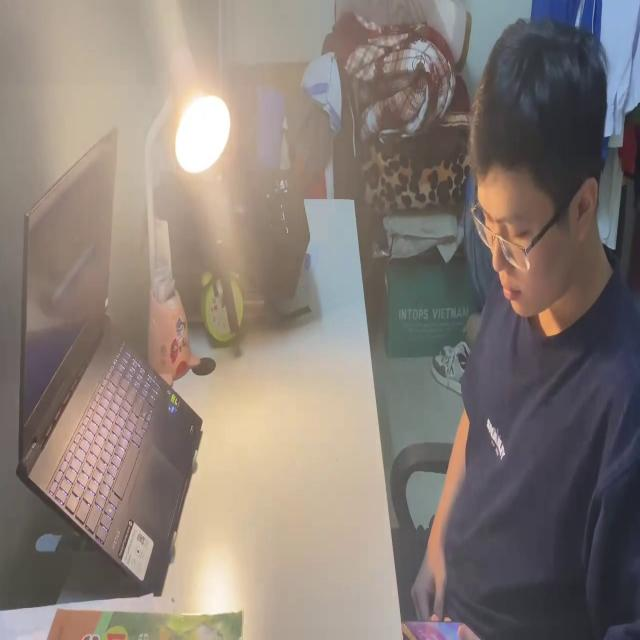book: (1, 592, 247, 640)
laptop: (18, 118, 204, 595)
phone: (403, 614, 469, 640)
student: (388, 15, 640, 640)
